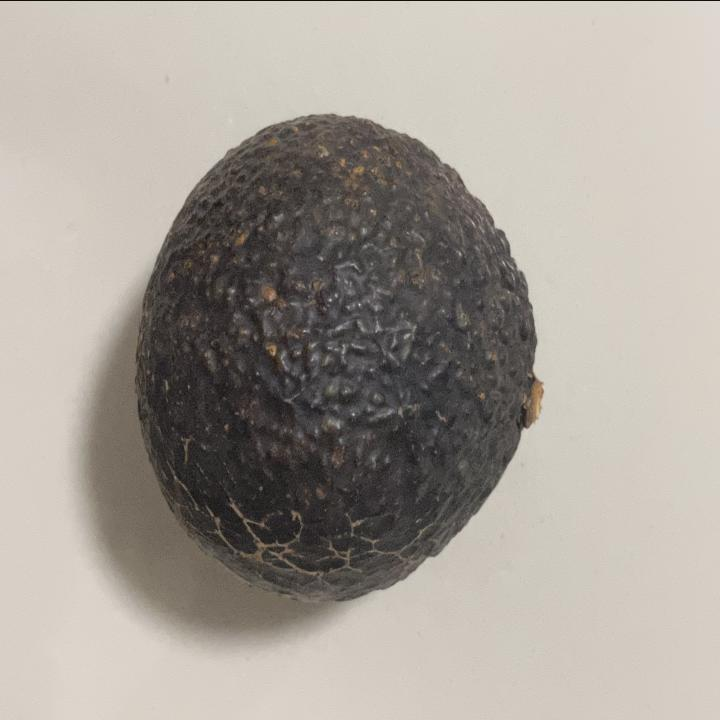Level2: (128, 103, 552, 613)
